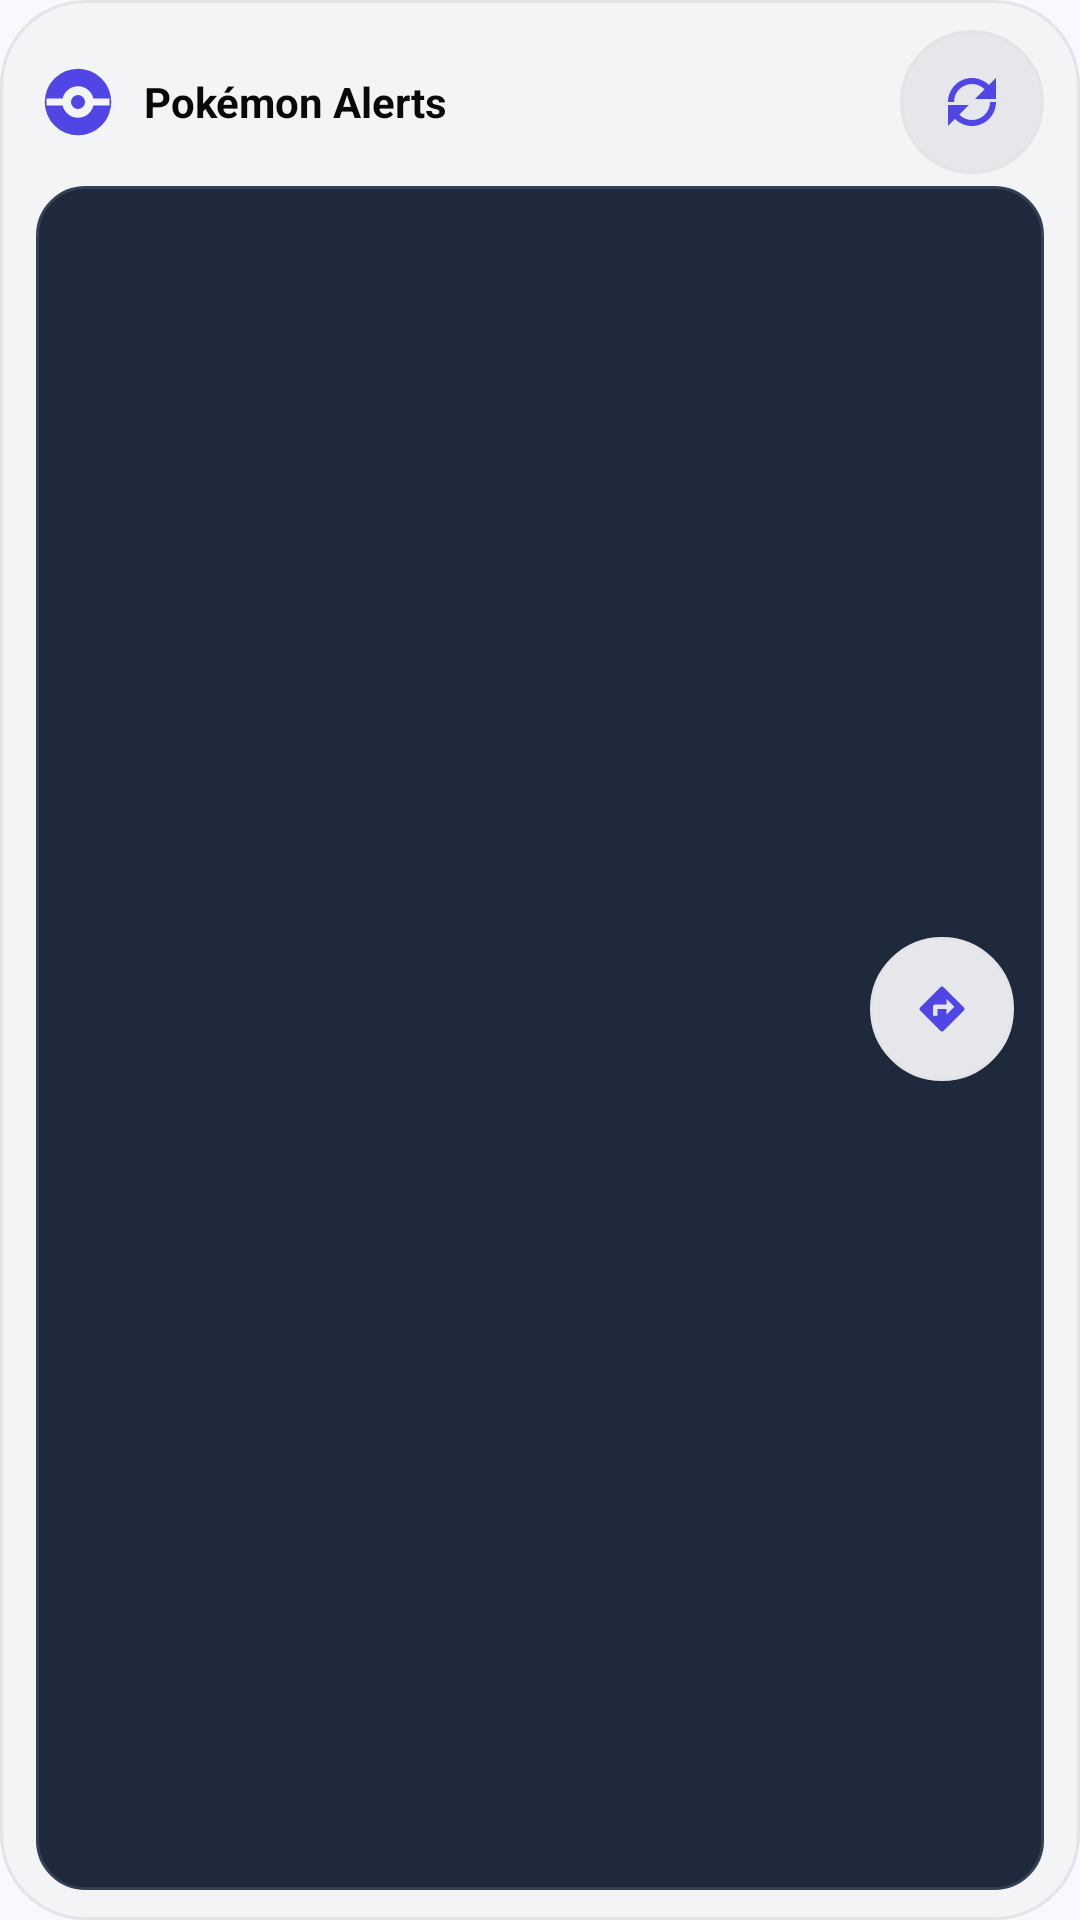

Named icons in this screenshot (1080x1920) and their centers, [x,y]:
Navigate to alert: [942,1009]
Refresh alerts: [972,102]
